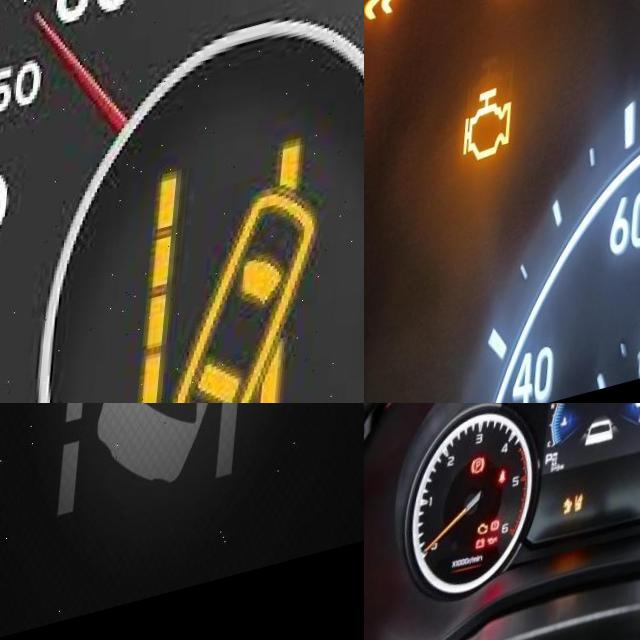Seat Belt: (503, 481, 511, 498)
